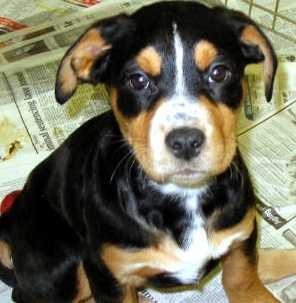Dog: (8, 4, 270, 302)
